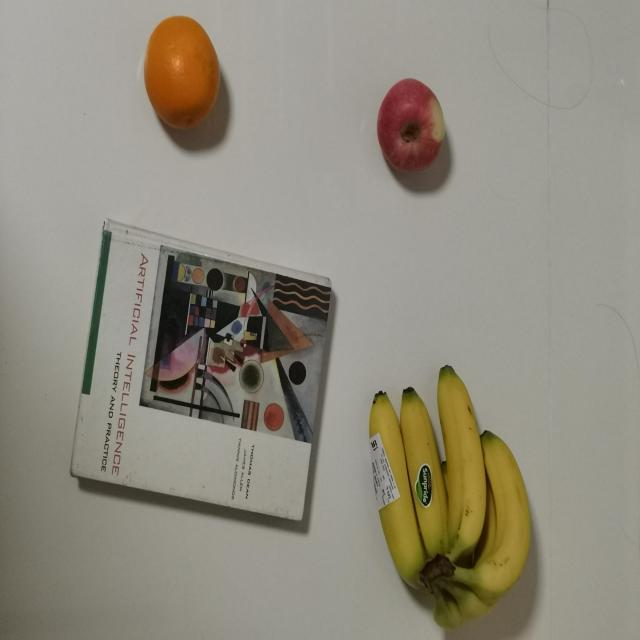Apple: (374, 68, 459, 188)
Banana: (360, 363, 534, 634)
Book: (68, 216, 335, 536)
Orange: (140, 15, 225, 136)
